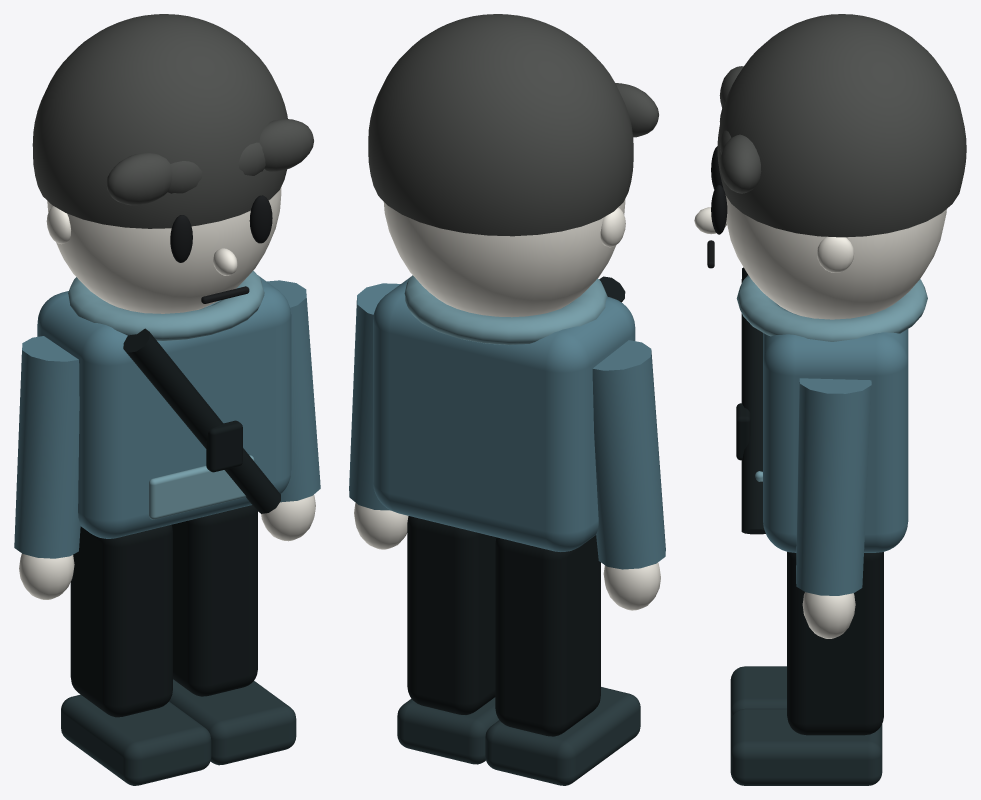
Rendered from my-character.glb.
The picture shows the model from 3 angles, left to right: view 1: azimuth 30°, elevation 25°; view 2: azimuth 150°, elevation 25°; view 3: azimuth 270°, elevation 25°; orthographic projection. The views are drawn at different scales.
Visible parts, largest first — view 1: hair-cap, hoodie-body, leg-left, leg-right, head, arm-left, shoe-left, shoe-right, cross-body-strap, hood-opening, arm-right, front-pocket (+11 smaller); view 2: hair-cap, hoodie-body, leg-left, leg-right, head, arm-left, shoe-left, hood-opening, arm-right, shoe-right, hand-left, hand-right (+2 smaller); view 3: hair-cap, hoodie-body, arm-right, head, leg-right, shoe-right, hood-opening, cross-body-strap, shoe-left, hand-right, hair-bang-4, ear-right (+2 smaller).
Boxes of the visible parts, x1,y1,x2,y2 form: hair-cap: (32, 14, 287, 228); hoodie-body: (37, 275, 291, 538); leg-left: (70, 524, 172, 717); leg-right: (172, 505, 257, 696); head: (47, 186, 281, 313); arm-left: (14, 336, 80, 558); shoe-left: (61, 694, 211, 785); shoe-right: (169, 679, 296, 765); cross-body-strap: (123, 328, 280, 513); hood-opening: (68, 270, 264, 341); arm-right: (267, 280, 320, 502); front-pocket: (148, 455, 254, 519); hair-cap: (368, 14, 633, 236); hoodie-body: (373, 277, 635, 551); leg-left: (495, 535, 600, 736); leg-right: (407, 516, 496, 714); head: (383, 199, 625, 317); arm-left: (592, 340, 665, 569); shoe-left: (485, 687, 640, 785); hood-opening: (404, 275, 607, 344); arm-right: (349, 283, 400, 510); shoe-right: (397, 697, 498, 764); hand-left: (603, 562, 660, 610); hand-right: (354, 502, 408, 549); hair-cap: (717, 14, 966, 237); hoodie-body: (763, 303, 908, 552); arm-right: (796, 378, 871, 595); head: (725, 195, 946, 319); leg-right: (787, 552, 883, 735); shoe-right: (730, 708, 882, 785); hood-opening: (736, 275, 927, 341); cross-body-strap: (741, 267, 765, 534); shoe-left: (730, 666, 786, 721); hand-right: (802, 592, 855, 638); hair-bang-4: (720, 134, 761, 193); ear-right: (817, 236, 854, 272).
Bounding box in the file's own units: 2.17 × 4.93 × 1.68.
